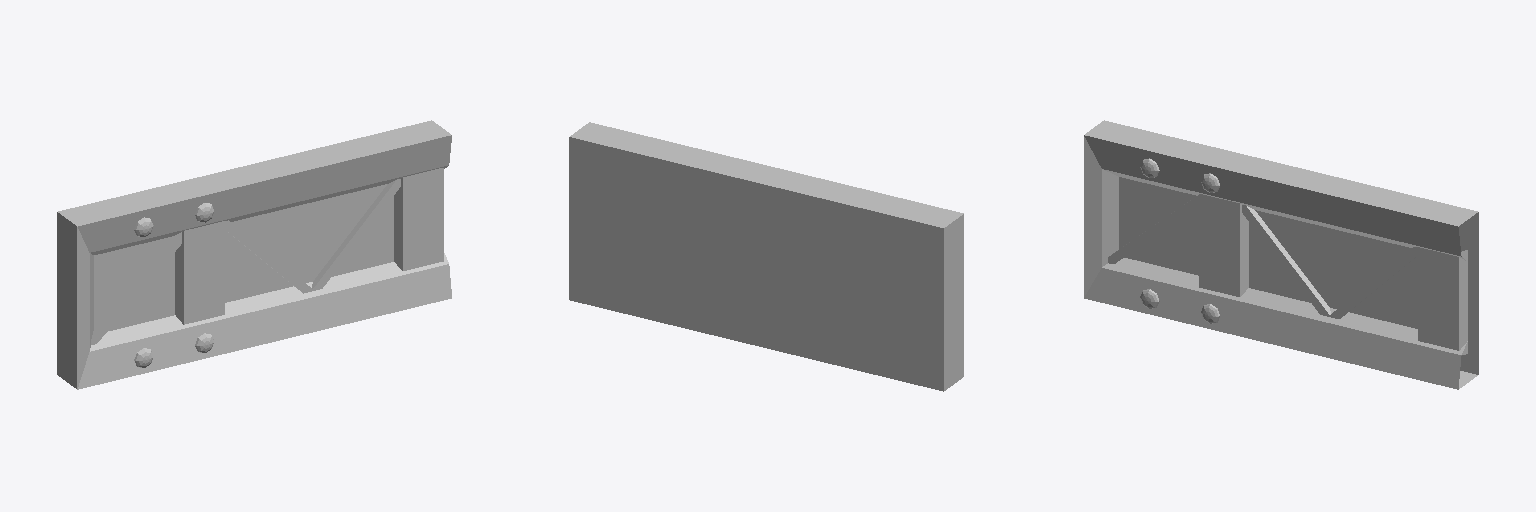
The model's file is half_platform.obj.
3 renders of one model, left to right at view 1: azimuth 30°, elevation 25°; view 2: azimuth 150°, elevation 25°; view 3: azimuth 330°, elevation 25°, orthographic.
Parts seen in each view (by area): view 1: pSphere11; view 2: pSphere11; view 3: pSphere11.
Boxes of the visible parts, <box> form: pSphere11: <box>57,120,451,389</box>; pSphere11: <box>569,122,963,391</box>; pSphere11: <box>1084,120,1478,389</box>.
Size of the model in its own units: 3.42 by 1.43 by 0.3601.